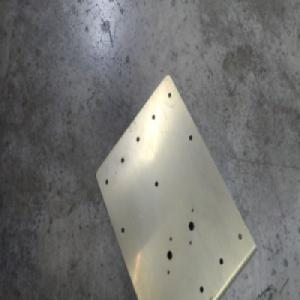MetalSheet: (93, 71, 258, 300)
